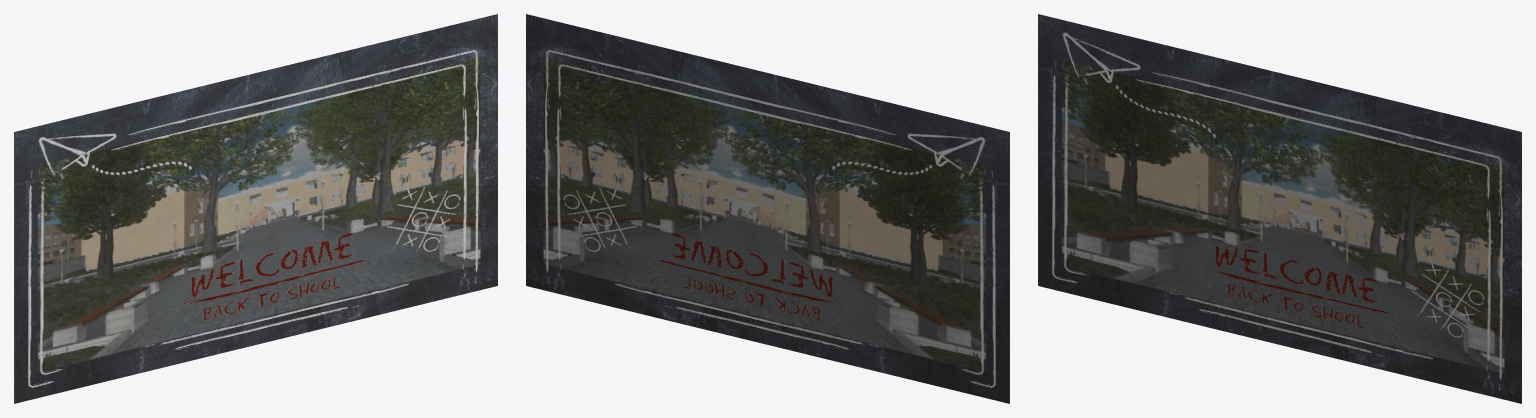
Rendered from escuelafolleto.fbx.
The picture shows the model from 3 angles, left to right: view 1: azimuth 30°, elevation 25°; view 2: azimuth 150°, elevation 25°; view 3: azimuth 330°, elevation 25°; orthographic projection.
Parts seen in each view (by area): view 1: pPlane1; view 2: pPlane1; view 3: pPlane1.
Part boxes in pixels (x1,y1,x2,y2): pPlane1: [14, 14, 497, 403]; pPlane1: [526, 14, 1009, 403]; pPlane1: [1038, 14, 1521, 403].
Size of the model in its own units: 1894 by 1017 by 3.89e-13.
1 material, 1 textured.
